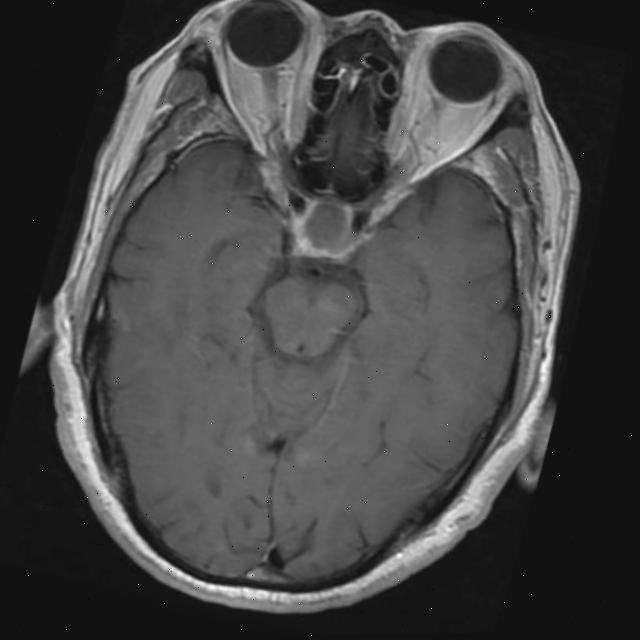Pituitary: (290, 190, 360, 265)
